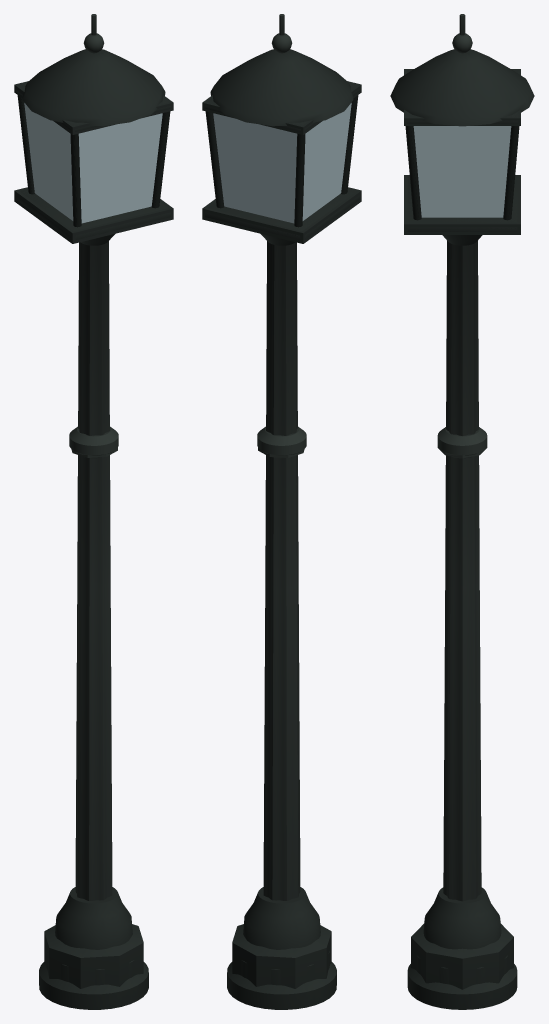
File: farola.glb
3 views of the same model, side by side, from view 1: azimuth 30°, elevation 25°; view 2: azimuth 150°, elevation 25°; view 3: azimuth 270°, elevation 25° (orthographic).
Parts seen in each view (by area): view 1: hd, hd_glass, lo; view 2: hd, hd_glass, lo; view 3: hd, hd_glass, lo.
Part boxes in pixels (x1=…): hd: x1=15, y1=14, x2=171, y2=1009; hd_glass: x1=24, y1=103, x2=162, y2=223; lo: x1=14, y1=51, x2=173, y2=988; hd: x1=204, y1=14, x2=360, y2=1009; hd_glass: x1=213, y1=103, x2=351, y2=223; lo: x1=202, y1=50, x2=361, y2=988; hd: x1=390, y1=14, x2=534, y2=1009; hd_glass: x1=413, y1=126, x2=511, y2=217; lo: x1=404, y1=51, x2=520, y2=989.
Size of the model in its own units: 0.42 by 3.12 by 0.42.
